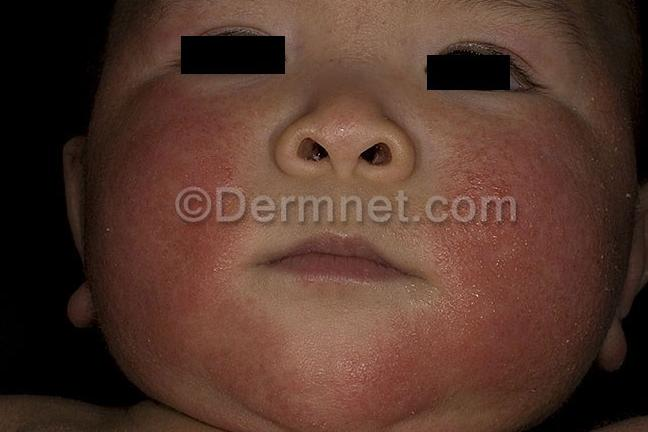eritema 3: (326, 126, 631, 426), (82, 78, 322, 418)
xerosis 1: (566, 102, 632, 356)
